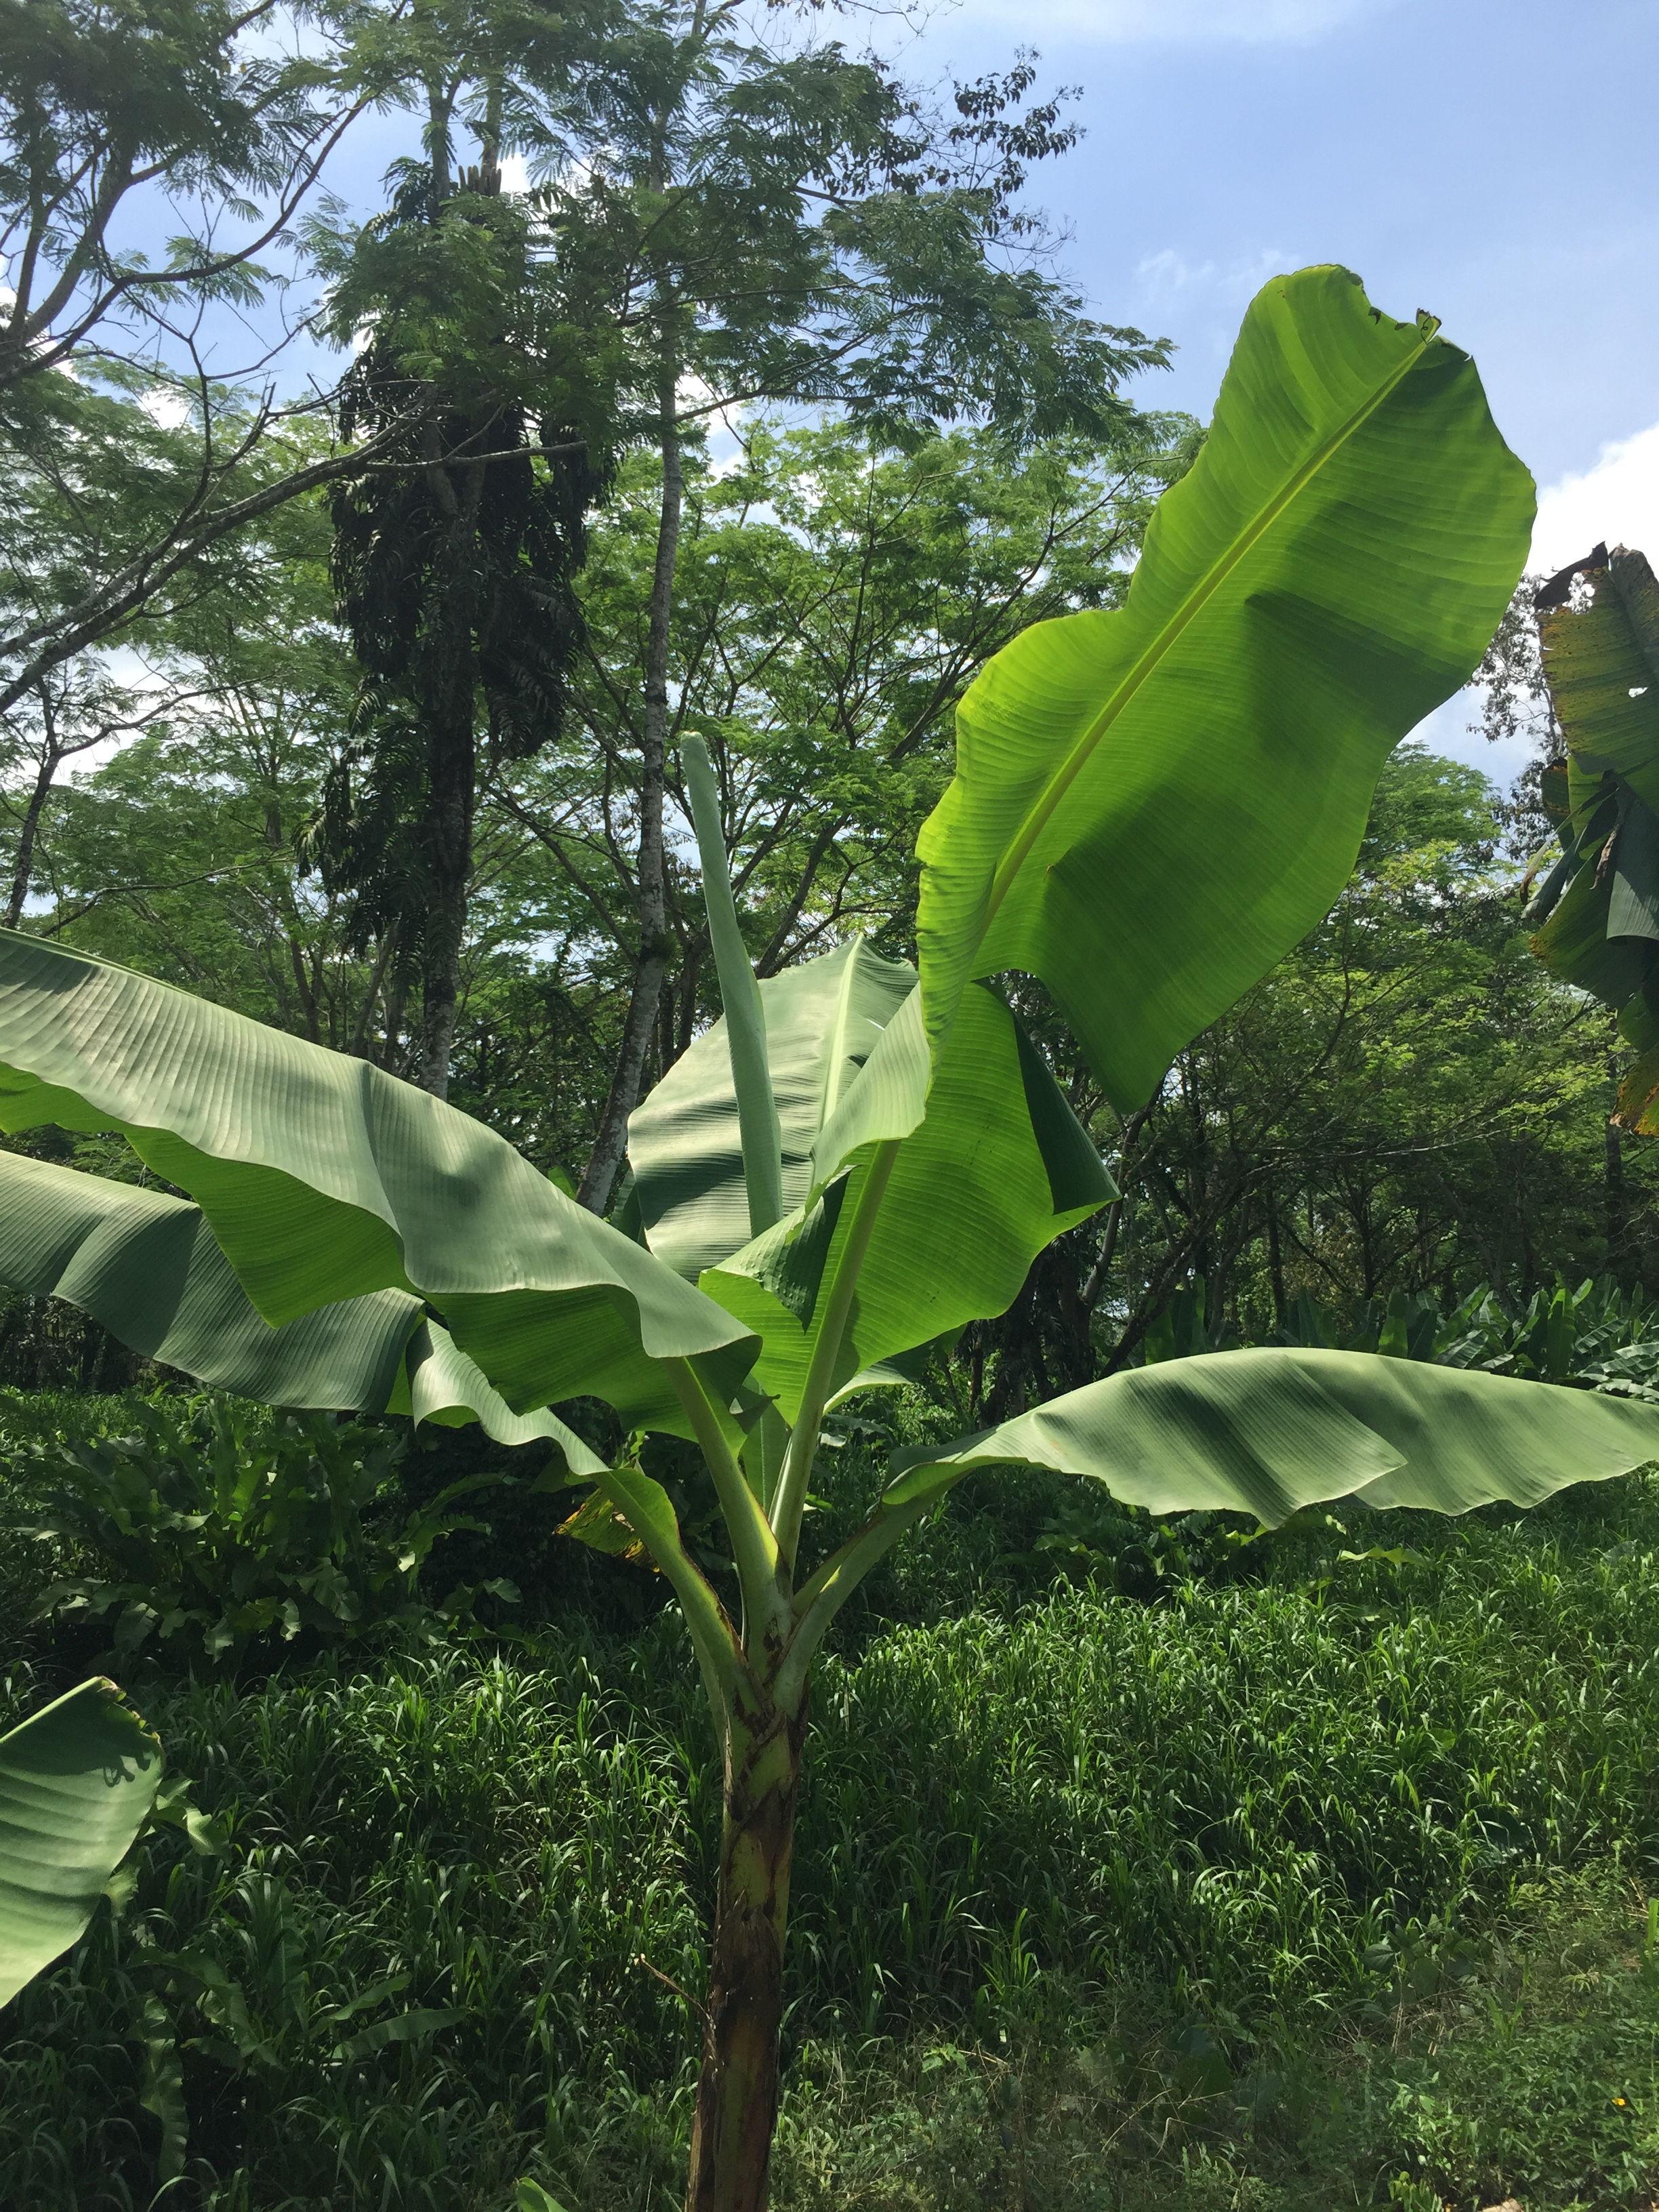candleleafs: (674, 726, 784, 1240)
